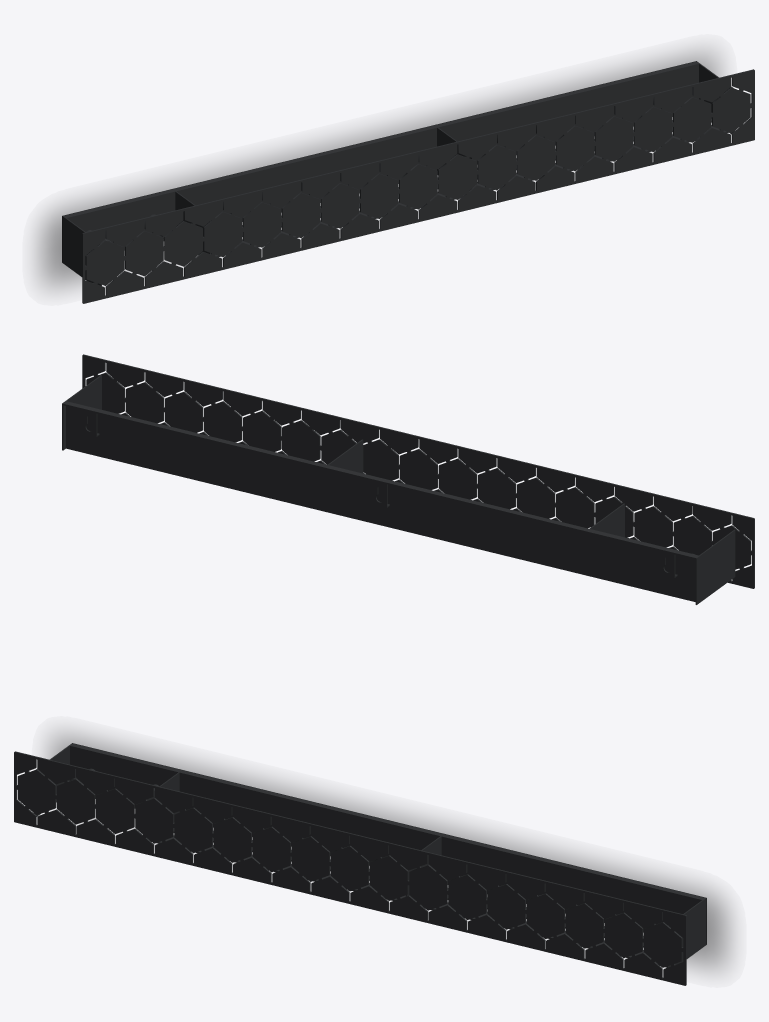
The model's file is bee-patron.ddf6b090c5.ar.glb.
3 views of the same model, one above another, from view 1: azimuth 30°, elevation 25°; view 2: azimuth 150°, elevation 25°; view 3: azimuth 330°, elevation 25° (orthographic).
Visible parts, largest first — view 1: NAUO1, object 2; view 2: NAUO1; view 3: NAUO1, object 2.
Boxes of the visible parts, bbox=[...] form: NAUO1: bbox=[62, 61, 754, 303]; object 2: bbox=[36, 51, 722, 288]; NAUO1: bbox=[62, 354, 754, 604]; NAUO1: bbox=[14, 743, 706, 985]; object 2: bbox=[46, 733, 732, 970].
Size of the model in its own units: 0.98 by 0.17 by 0.092.
Materials: 2 (1 with a texture image).
